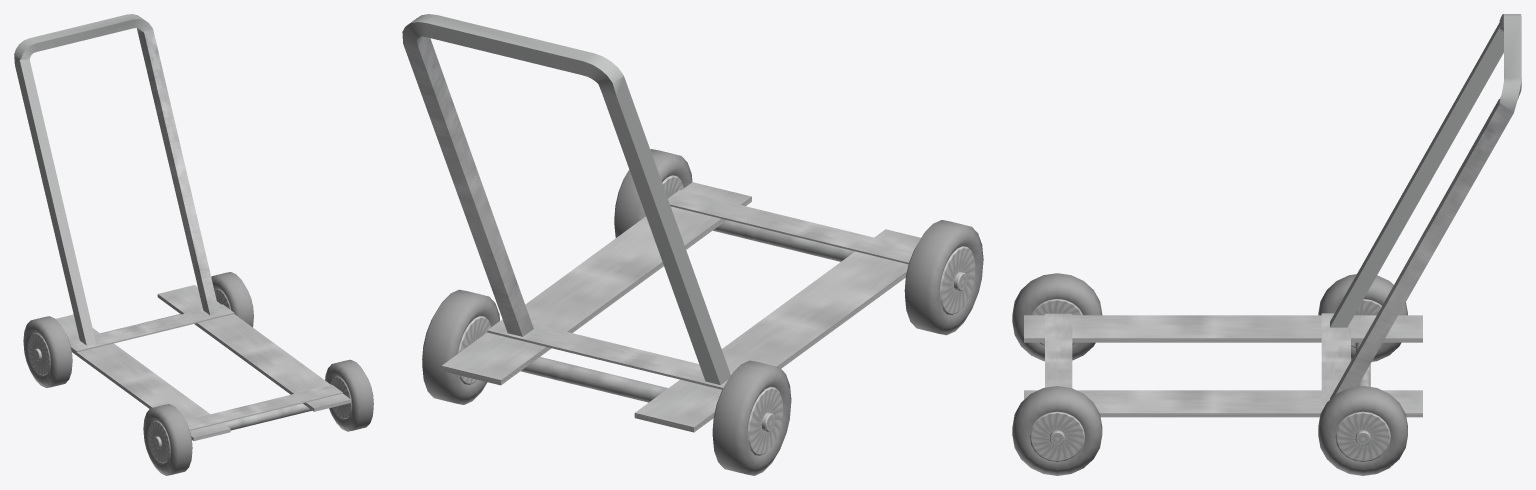
The model's file is Cart.obj.
3 renders of one model, left to right at view 1: azimuth 30°, elevation 25°; view 2: azimuth 150°, elevation 25°; view 3: azimuth 270°, elevation 25°, orthographic. The views are drawn at different scales.
Visible parts, largest first — view 1: grp_model_pCube99, grp_model_pCube98, pCube97_grp_model, grp_model_polySurface255, grp_model_polySurface252, grp_model_polySurface253, grp_model_pCube100, grp_model_pCube101, grp_model_polySurface256, grp_model_polySurface248; view 2: grp_model_pCube99, grp_model_pCube98, pCube97_grp_model, grp_model_polySurface252, grp_model_polySurface255, grp_model_polySurface256, grp_model_pCube101, grp_model_pCube100, grp_model_polySurface254, grp_model_polySurface253, grp_model_polySurface248; view 3: grp_model_pCube99, pCube97_grp_model, grp_model_pCube98, grp_model_polySurface253, grp_model_polySurface256, grp_model_polySurface252, grp_model_pCube101, grp_model_polySurface255, grp_model_pCube100.
Part boxes in pixels (bbox=[...]): grp_model_pCube99: bbox=[14, 14, 219, 345]; grp_model_pCube98: bbox=[157, 285, 351, 411]; pCube97_grp_model: bbox=[56, 314, 230, 440]; grp_model_polySurface255: bbox=[23, 316, 72, 387]; grp_model_polySurface252: bbox=[143, 404, 192, 475]; grp_model_polySurface253: bbox=[325, 359, 373, 431]; grp_model_pCube100: bbox=[69, 304, 234, 352]; grp_model_pCube101: bbox=[185, 384, 342, 430]; grp_model_polySurface256: bbox=[211, 272, 253, 327]; grp_model_polySurface248: bbox=[153, 403, 311, 448]; grp_model_pCube99: bbox=[402, 14, 730, 384]; grp_model_pCube98: bbox=[441, 182, 751, 385]; pCube97_grp_model: bbox=[634, 229, 920, 432]; grp_model_polySurface252: bbox=[904, 220, 983, 335]; grp_model_polySurface255: bbox=[712, 360, 791, 475]; grp_model_polySurface256: bbox=[422, 289, 499, 404]; grp_model_pCube101: bbox=[668, 190, 914, 264]; grp_model_pCube100: bbox=[487, 319, 732, 389]; grp_model_polySurface254: bbox=[521, 357, 774, 431]; grp_model_polySurface253: bbox=[614, 149, 692, 237]; grp_model_polySurface248: bbox=[713, 220, 966, 290]; grp_model_pCube99: bbox=[1330, 14, 1521, 399]; pCube97_grp_model: bbox=[1024, 315, 1422, 342]; grp_model_pCube98: bbox=[1024, 390, 1422, 417]; grp_model_polySurface253: bbox=[1012, 386, 1102, 475]; grp_model_polySurface256: bbox=[1318, 386, 1407, 475]; grp_model_polySurface252: bbox=[1012, 273, 1102, 361]; grp_model_pCube101: bbox=[1045, 313, 1072, 387]; grp_model_polySurface255: bbox=[1318, 274, 1407, 361]; grp_model_pCube100: bbox=[1321, 313, 1350, 411].
Size of the model in its own units: 2.52 by 3.38 by 4.23.
3 materials, 2 textured.
